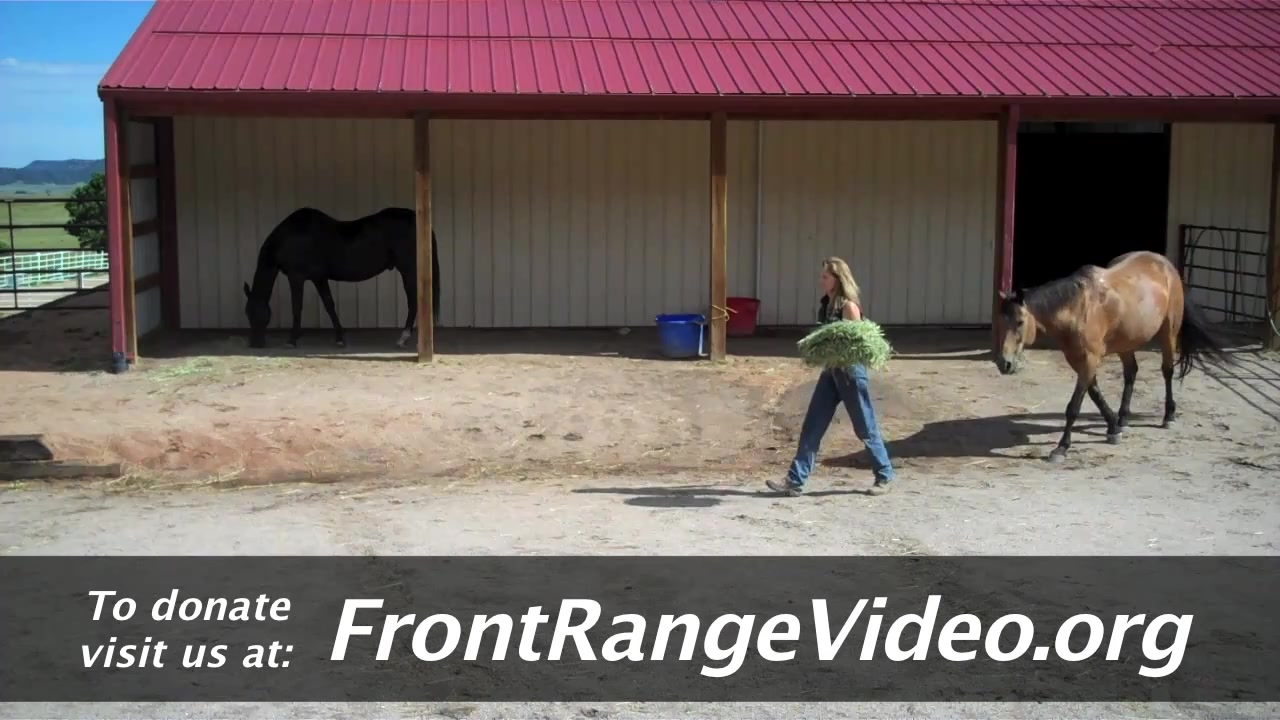horse: (991, 251, 1235, 465), (238, 202, 446, 354)
